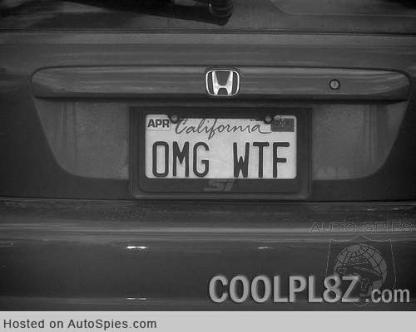license plate: (126, 102, 314, 202)
